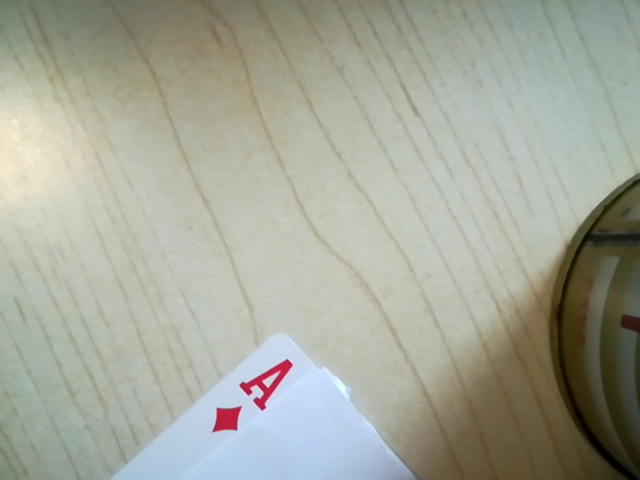fk a: (198, 356, 303, 438)
